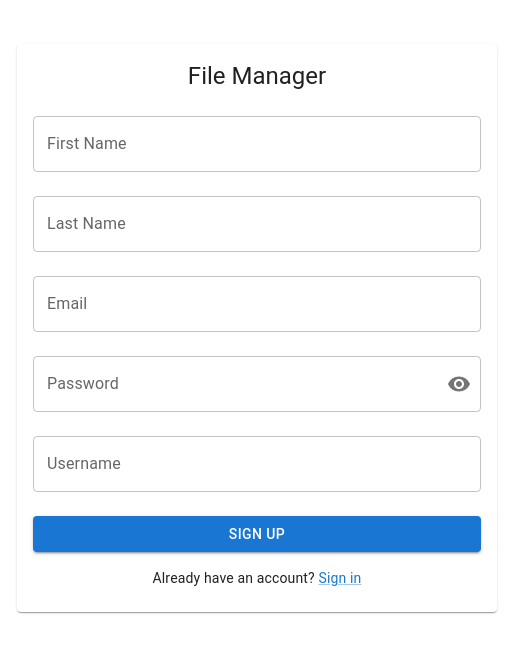
Scenario: displays sign-up API error message inline
Type "Jane" into the field labelled "First Name" at (257, 144), box [33,116,481,172]
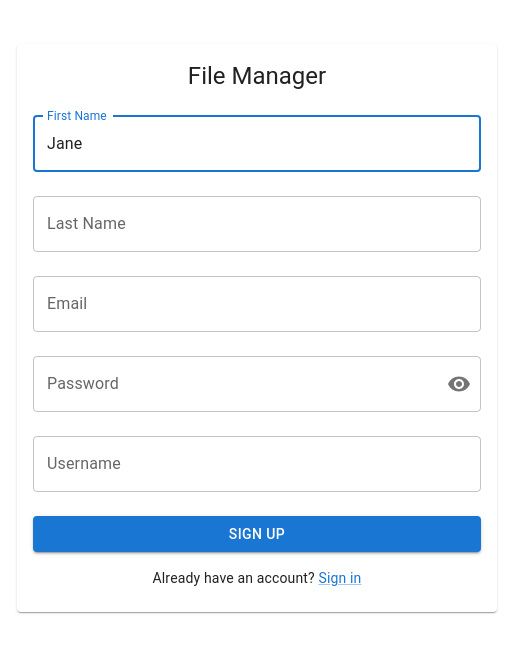
Type "Doe" into the field labelled "Last Name" at (257, 224), box [33,196,481,252]
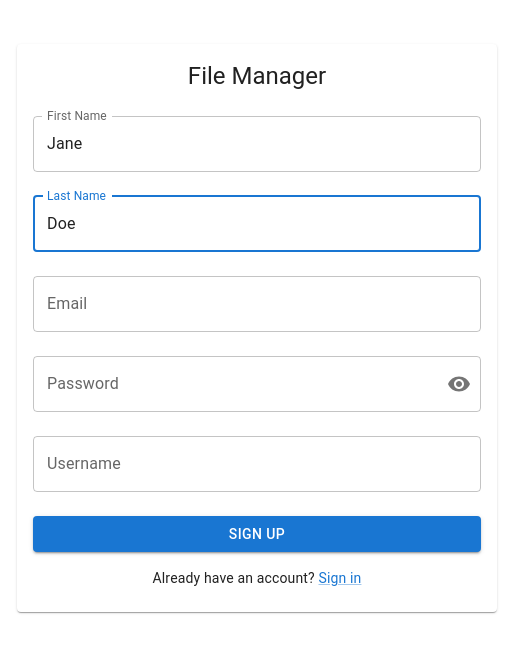
Type "jane@example.com" into the field labelled "Email" at (257, 304), box [33,276,481,332]
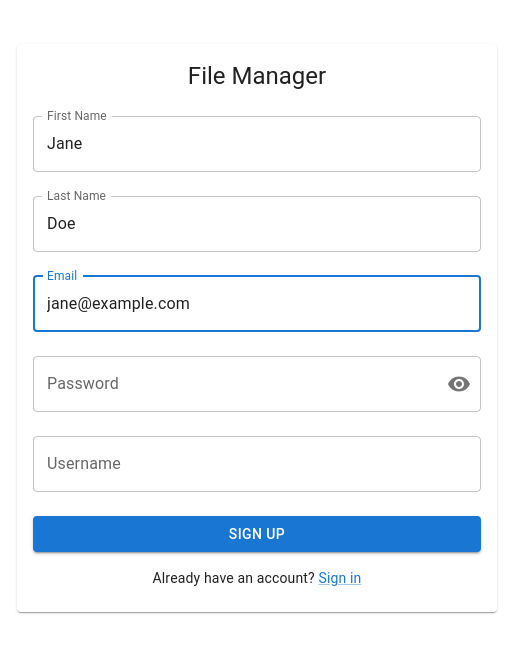
Type "Password123!" into the password field labelled "Password" at (232, 384), box [33,356,431,412]
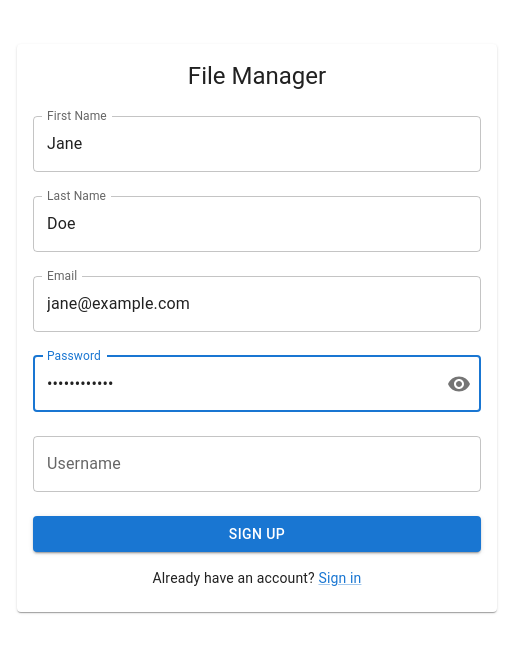
Type "janedoe" into the field labelled "Username" at (257, 464), box [33,436,481,492]
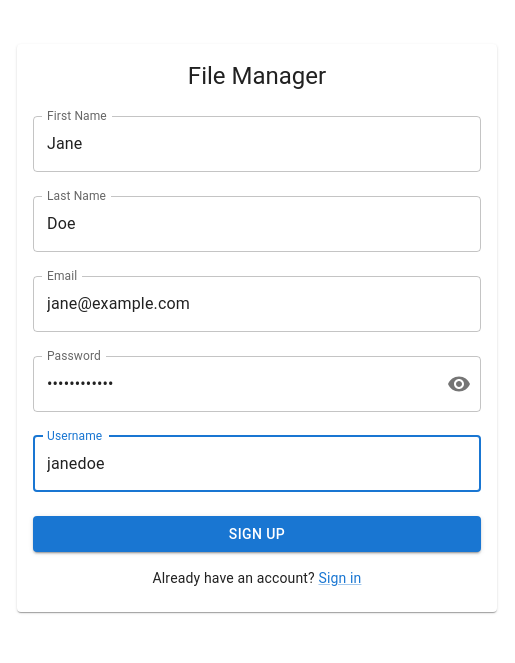
Click the button "Sign Up" at (257, 534), box [33,516,481,552]
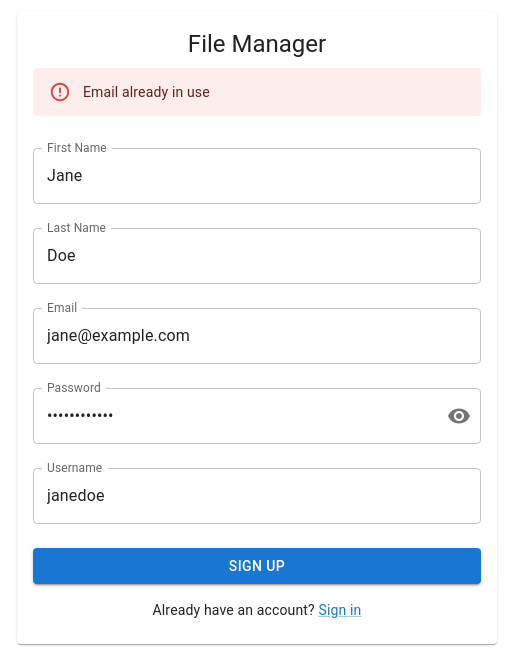
expect the text "Email already in use" is shown: met, box [83,84,210,100]
